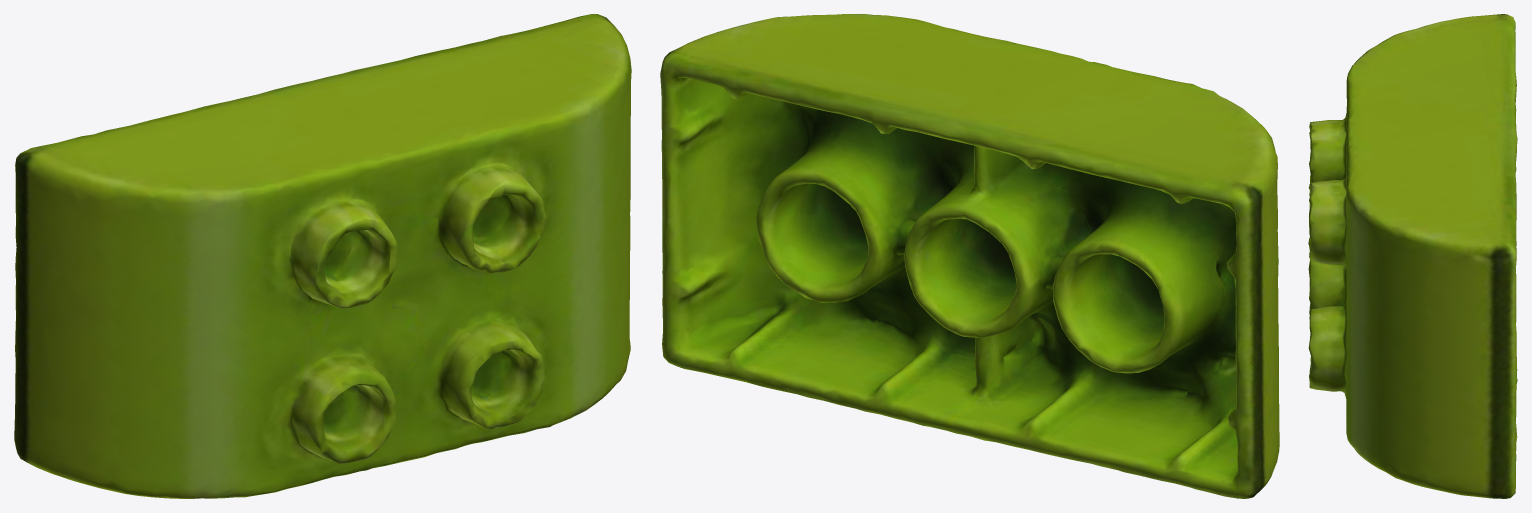
The model's file is ddg-ycb_073-a_lego_duplo.glb.
3 renders of one model, left to right at view 1: azimuth 30°, elevation 25°; view 2: azimuth 150°, elevation 25°; view 3: azimuth 270°, elevation 25°, orthographic. The views are drawn at different scales.
Parts seen in each view (by area): view 1: textured(Clone); view 2: textured(Clone); view 3: textured(Clone).
Boxes of the visible parts, left/top/right/bottom form: textured(Clone): left=14, top=14, right=631, bottom=498; textured(Clone): left=660, top=14, right=1279, bottom=498; textured(Clone): left=1308, top=14, right=1517, bottom=498.
Bounding box in the file's own units: 1.71 × 0.8658 × 0.637.
Materials: 1 (1 with a texture image).
